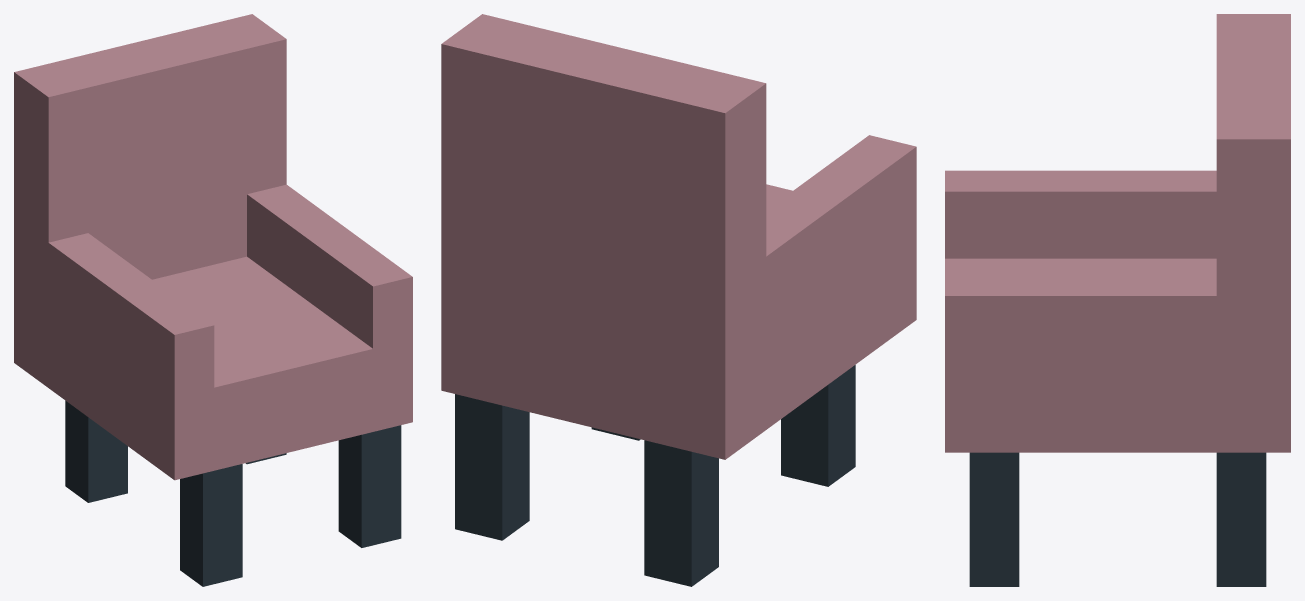
File: beauty-07.glb
3 views of the same model, side by side, from view 1: azimuth 30°, elevation 25°; view 2: azimuth 150°, elevation 25°; view 3: azimuth 270°, elevation 25° (orthographic). The views are drawn at different scales.
Visible parts, largest first — view 1: Salon chair; view 2: Salon chair; view 3: Salon chair.
Boxes of the visible parts, x1,y1,x2,y2 form: Salon chair: (14, 14, 412, 586); Salon chair: (441, 14, 916, 586); Salon chair: (945, 14, 1290, 586).
Bounding box in the file's own units: 0.96 × 1.6 × 1.12.
